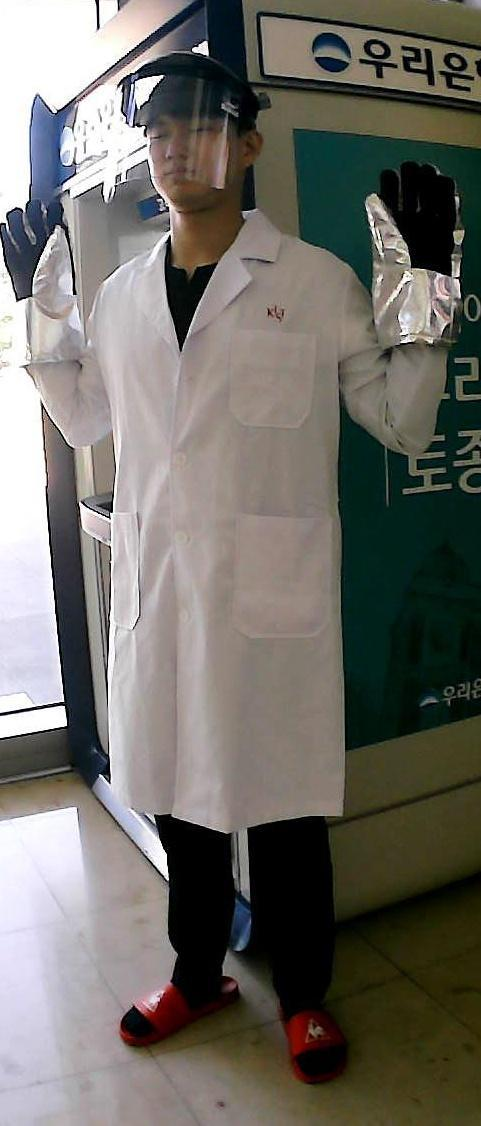lab_coat: (109, 271, 348, 807)
